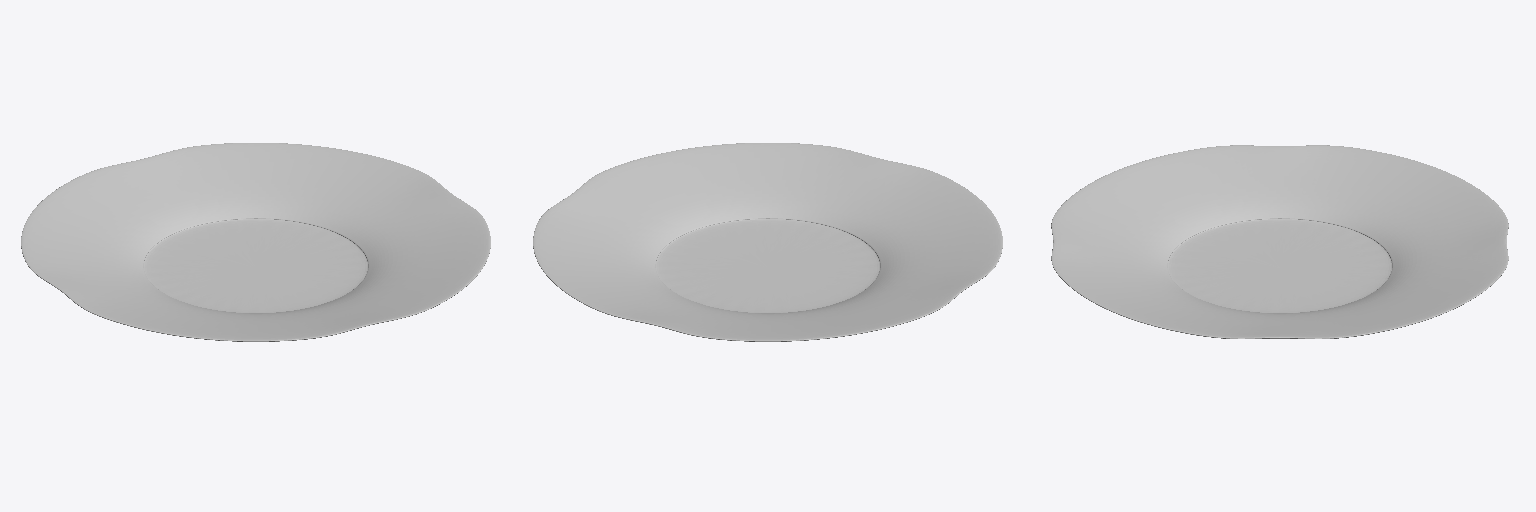
The model's file is Shallow_Plate.obj.
3 renders of one model, left to right at view 1: azimuth 30°, elevation 25°; view 2: azimuth 150°, elevation 25°; view 3: azimuth 270°, elevation 25°, orthographic.
Parts seen in each view (by area): view 1: Shallow_Plate_Circle.004; view 2: Shallow_Plate_Circle.004; view 3: Shallow_Plate_Circle.004.
Boxes of the visible parts, x1=… form: Shallow_Plate_Circle.004: x1=21, y1=143, x2=490, y2=341; Shallow_Plate_Circle.004: x1=533, y1=143, x2=1002, y2=341; Shallow_Plate_Circle.004: x1=1051, y1=145, x2=1508, y2=338.
Size of the model in its own units: 0.565 by 0.039 by 0.565.